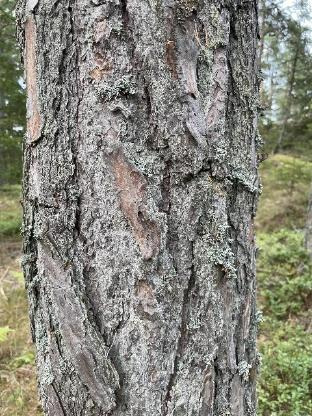tree: (13, 0, 271, 416)
